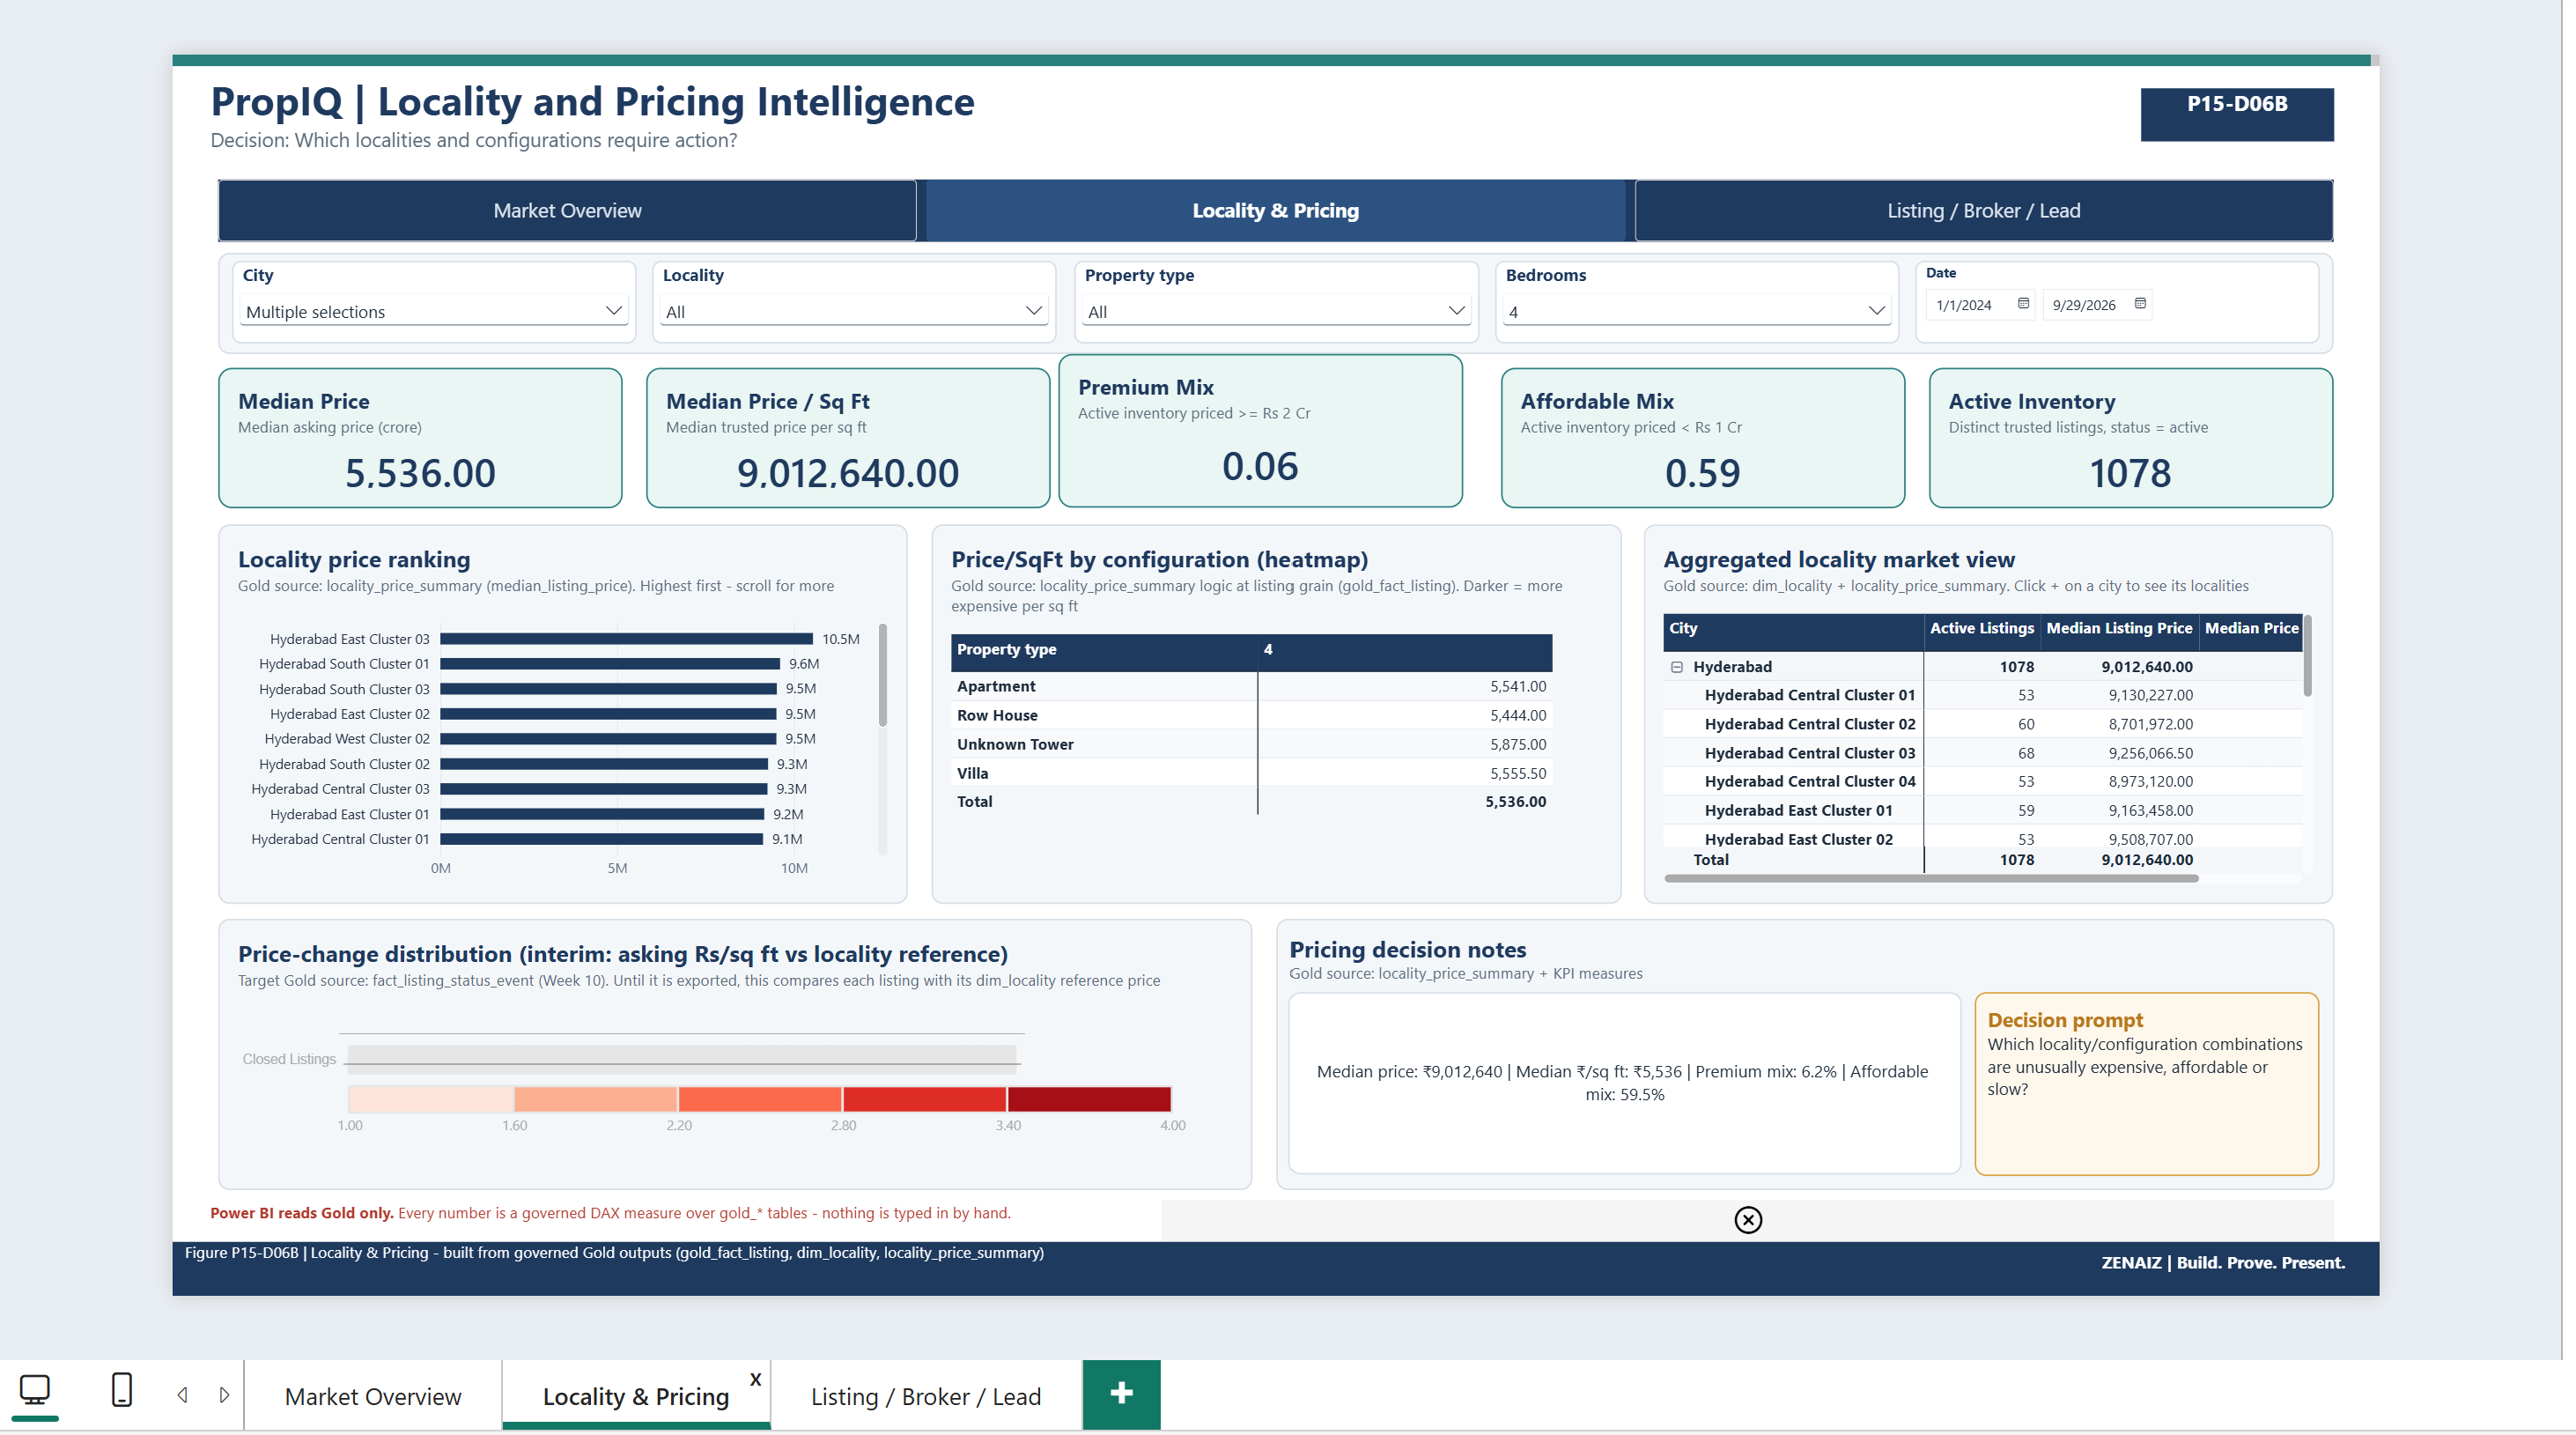

What the dashboard file says about the page in this screenshot:
{"tool":"powerbi","page":{"name":"PROPIQ | LOCALITY & PRICING INTELLIGENCE","canvas":[1920,1080],"ordinal":1},"visuals":[{"type":"textbox","box":[0,0,1920,74],"z":0},{"type":"slicer","fields":{"Values":["gold_dim_locality.city"]},"box":[38,123.1,352.4,148.7],"z":1000},{"type":"slicer","fields":{"Values":["gold_dim_locality.locality_name"]},"box":[528.4,121.2,352,150],"z":2000},{"type":"slicer","fields":{"Values":["gold_dim_property.property_type"]},"box":[1038.7,123.1,352.4,148.7],"z":3000},{"type":"slicer","fields":{"Values":["gold_dim_date.date_key"]},"box":[1543.6,123.1,352.9,150.2],"z":4000},{"type":"cardVisual","title":"MEDIAN PRICE","fields":{"Data":["Median(gold_locality_price_summary.median_listing_price)"]},"box":[43.4,300.4,340,150],"z":5000},{"type":"cardVisual","title":"MEDIAN PRICE / SQ FT","fields":{"Data":["Median(gold_locality_price_summary.median_price_per_sqft)"]},"box":[423.5,300.4,340,150],"z":6000},{"type":"cardVisual","title":"PREMIUM MIX","fields":{"Data":["gold_broker_performance_summary.Premium Mix 2"]},"box":[789,300.4,340,150],"z":7000},{"type":"cardVisual","title":"AFFORDABLE MIX","fields":{"Data":["gold_broker_performance_summary.Affordable Mix Page 2"]},"box":[1176.3,300.4,340,150],"z":8000},{"type":"cardVisual","title":"ACTIVE INVENTORY","fields":{"Data":["Sum(gold_locality_price_summary.active_listings)"]},"box":[1569,300.4,340,150],"z":9000},{"type":"clusteredBarChart","title":"Locality Price Ranking","fields":{"Category":["gold_dim_locality.locality_name"],"Y":["Median(gold_locality_price_summary.median_listing_price)"]},"box":[43.4,483.2,445.2,272.6],"z":10000},{"type":"clusteredColumnChart","title":"Price / Sq Ft by Configuration","fields":{"Category":["gold_dim_property.property_type"],"Y":["Median(gold_fact_listing.price_per_sqft)"]},"box":[622.5,485,445.2,273.3],"z":11000},{"type":"pivotTable","title":"Aggregated Locality Market View.","fields":{"Rows":["gold_dim_locality.locality_name"],"Values":["Sum(gold_locality_price_summary.total_listings)","Median(gold_locality_price_summary.median_price_per_sqft)","Sum(gold_locality_price_summary.active_listings)"]},"box":[1176.3,483.2,732.9,273.3],"z":12000},{"type":"clusteredColumnChart","title":"Price Change Distribution","fields":{"Category":["gold_fact_listing.calculated_price_per_sqft"],"Y":["CountNonNull(gold_fact_listing.listing_id)"]},"box":[43.4,783.6,446,250.6],"z":13000},{"type":"textbox","box":[826,866,894,138],"z":14000}]}

Visuals, with their boxes on the page's 1920x1080 design canvas (x1, y1, x2, y2). These are canvas units, not pixel positions in the 2576x1435 screenshot, which may show the page scaled, cropped or inside an application window:
textbox: rect(0, 0, 1920, 74)
slicer - gold_dim_locality.city: rect(38, 123, 390, 272)
slicer - gold_dim_locality.locality_name: rect(528, 121, 880, 271)
slicer - gold_dim_property.property_type: rect(1039, 123, 1391, 272)
slicer - gold_dim_date.date_key: rect(1544, 123, 1896, 273)
"MEDIAN PRICE" cardVisual: rect(43, 300, 383, 450)
"MEDIAN PRICE / SQ FT" cardVisual: rect(424, 300, 764, 450)
"PREMIUM MIX" cardVisual: rect(789, 300, 1129, 450)
"AFFORDABLE MIX" cardVisual: rect(1176, 300, 1516, 450)
"ACTIVE INVENTORY" cardVisual: rect(1569, 300, 1909, 450)
"Locality Price Ranking" clusteredBarChart: rect(43, 483, 489, 756)
"Price / Sq Ft by Configuration" clusteredColumnChart: rect(622, 485, 1068, 758)
"Aggregated Locality Market View." pivotTable: rect(1176, 483, 1909, 756)
"Price Change Distribution" clusteredColumnChart: rect(43, 784, 489, 1034)
textbox: rect(826, 866, 1720, 1004)
